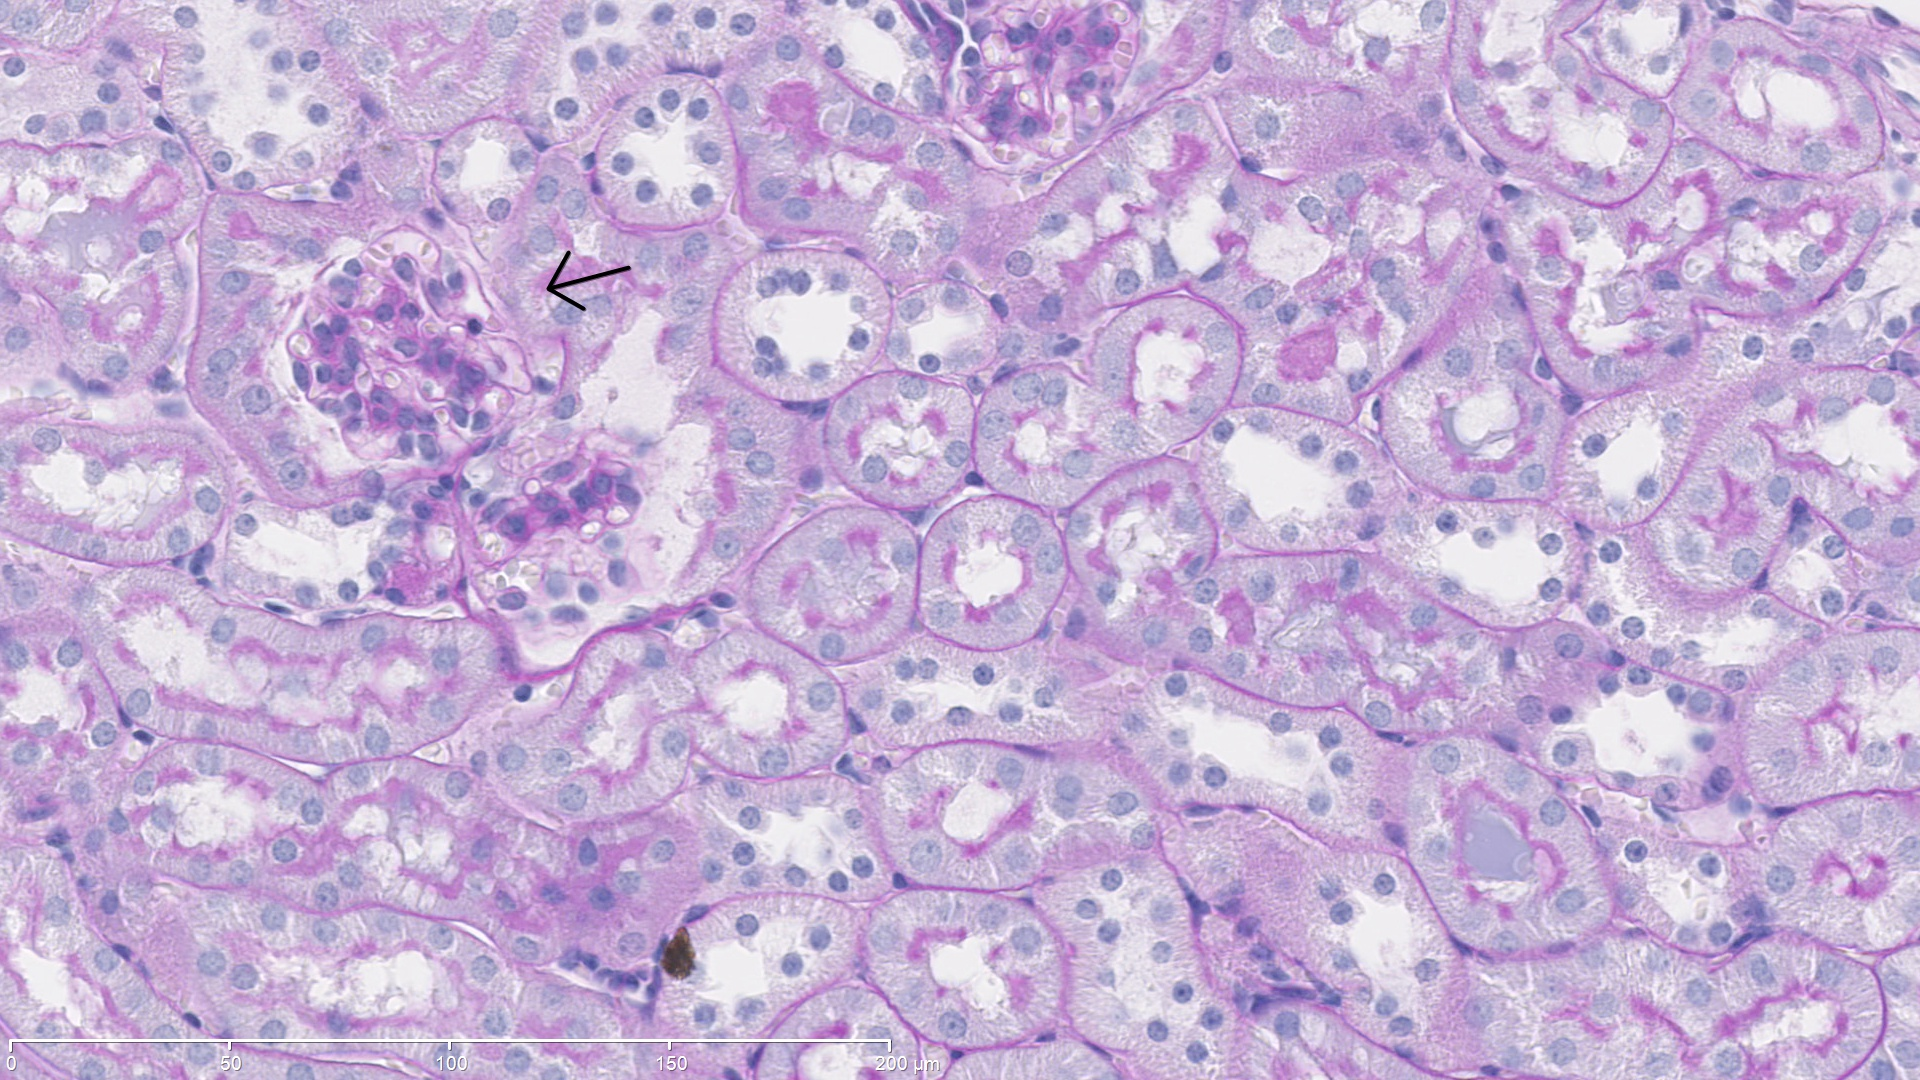Glomeruli: (266, 219, 541, 479), (893, 1, 1160, 185)
